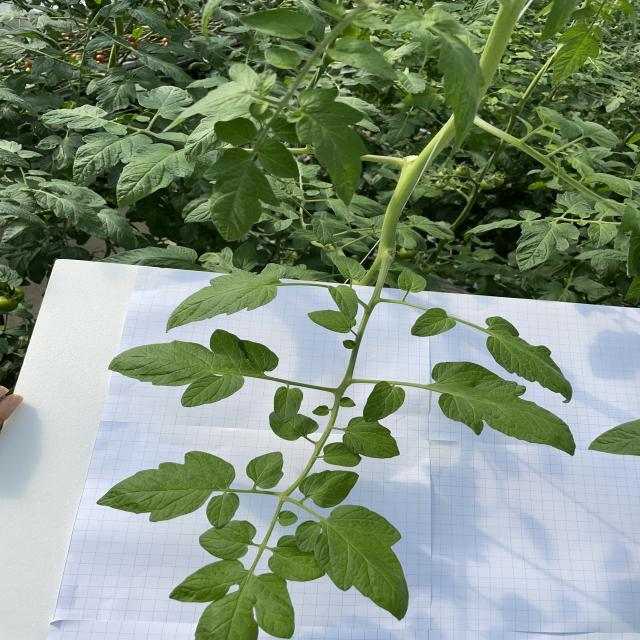Healthy Leaf: (433, 362, 578, 458), (108, 329, 281, 409), (295, 505, 410, 622), (96, 451, 242, 531), (288, 89, 370, 208), (166, 264, 289, 335), (486, 317, 574, 404), (204, 148, 282, 243), (164, 65, 259, 135), (439, 32, 486, 160), (117, 144, 191, 210), (35, 185, 110, 243), (74, 133, 154, 187), (550, 23, 605, 88), (516, 221, 581, 274), (328, 36, 400, 81), (268, 535, 328, 583), (97, 245, 203, 272), (300, 470, 361, 509), (200, 521, 259, 561), (239, 11, 316, 40), (342, 425, 401, 460), (588, 419, 640, 458), (138, 86, 194, 122), (139, 54, 198, 84), (364, 382, 406, 424), (42, 105, 109, 130), (99, 210, 138, 251), (259, 141, 301, 179), (270, 412, 320, 443), (382, 115, 426, 149), (247, 453, 286, 491), (130, 7, 173, 41), (411, 307, 457, 338), (407, 216, 456, 245), (296, 1, 327, 43), (215, 118, 259, 147), (308, 310, 358, 335), (578, 121, 621, 150), (326, 196, 387, 215), (594, 173, 640, 198), (274, 387, 305, 424), (1, 203, 48, 226), (329, 285, 359, 321), (555, 192, 600, 216), (324, 443, 363, 469), (384, 43, 424, 66), (464, 220, 520, 236), (589, 222, 619, 250), (398, 269, 429, 295), (336, 256, 367, 282), (266, 49, 302, 71), (234, 242, 259, 272), (398, 71, 429, 95), (574, 277, 610, 297), (184, 200, 214, 224), (313, 218, 336, 247), (186, 76, 230, 90), (31, 57, 56, 81), (473, 1, 498, 25), (619, 205, 640, 233), (257, 70, 278, 97), (330, 203, 357, 223), (100, 3, 133, 19), (341, 238, 372, 254), (266, 219, 294, 236), (86, 37, 117, 52), (52, 61, 75, 81), (397, 230, 418, 251), (49, 20, 78, 35), (288, 229, 319, 243), (321, 248, 340, 267), (156, 133, 191, 143), (29, 15, 52, 30), (350, 215, 376, 228), (103, 124, 129, 136), (287, 183, 306, 197), (520, 211, 542, 221), (18, 151, 45, 159), (310, 180, 334, 189), (29, 170, 54, 177), (284, 211, 301, 221)
